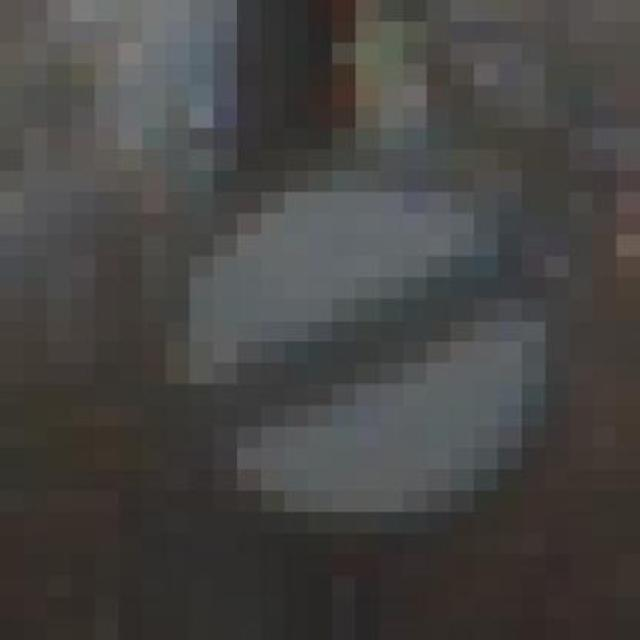End of all speed and passing limits: (118, 106, 592, 534)
